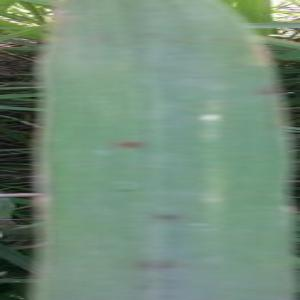Brown_Spot: (129, 252, 185, 276), (108, 129, 152, 157), (191, 104, 228, 129), (150, 204, 187, 228), (252, 79, 280, 104)
